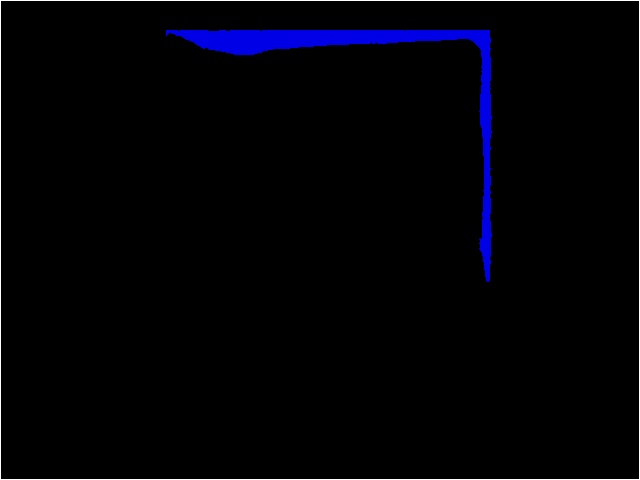defect: (164, 27, 493, 284)
